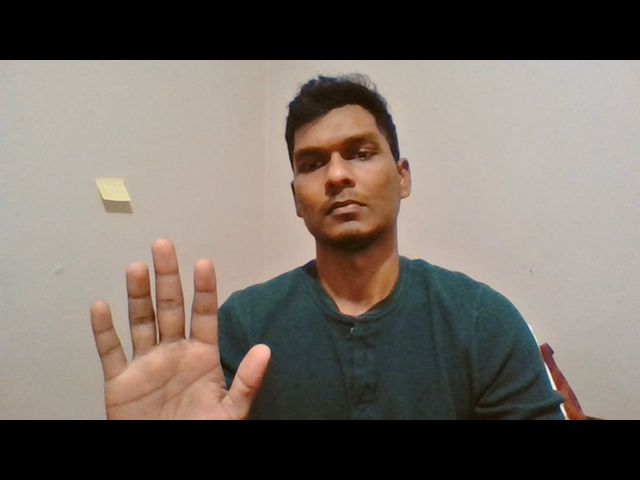Hello: (86, 236, 274, 421)
